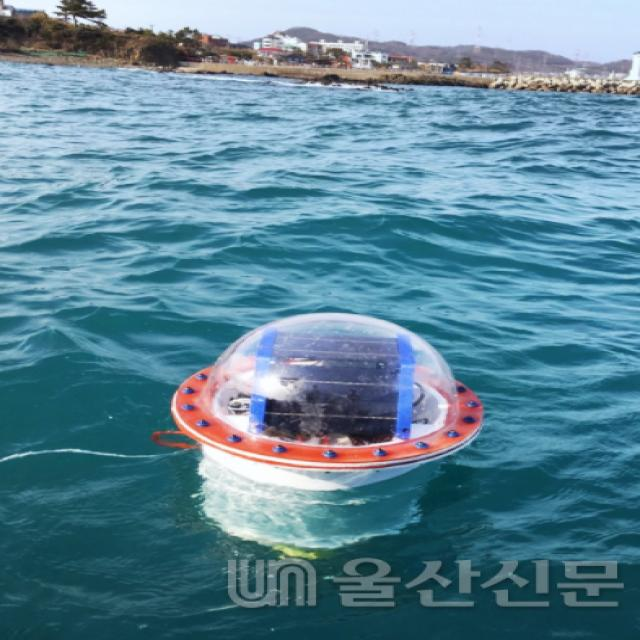Buoy: (187, 283, 471, 551)
